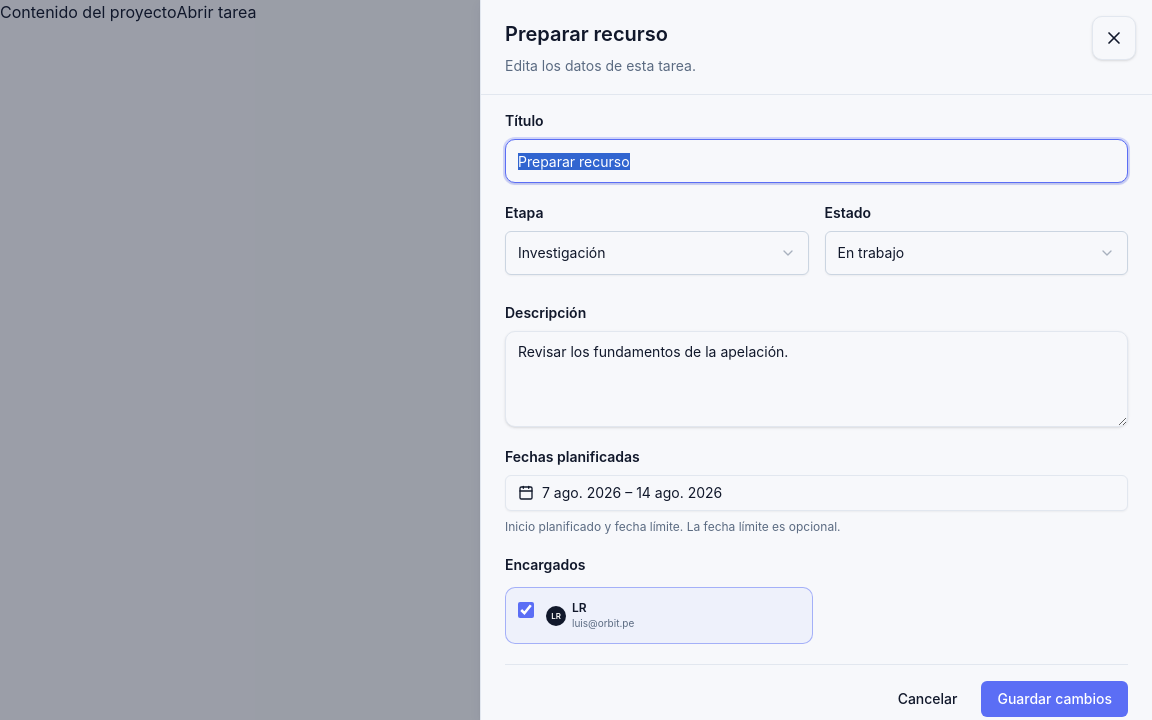
Test: ProjectTaskSheet › keeps the PATCH result and reports a partial save when responsibles fail
Replace the text in the field labelled "Título" with "Preparar recurso corregido": (816,161) [505, 139, 1128, 183]
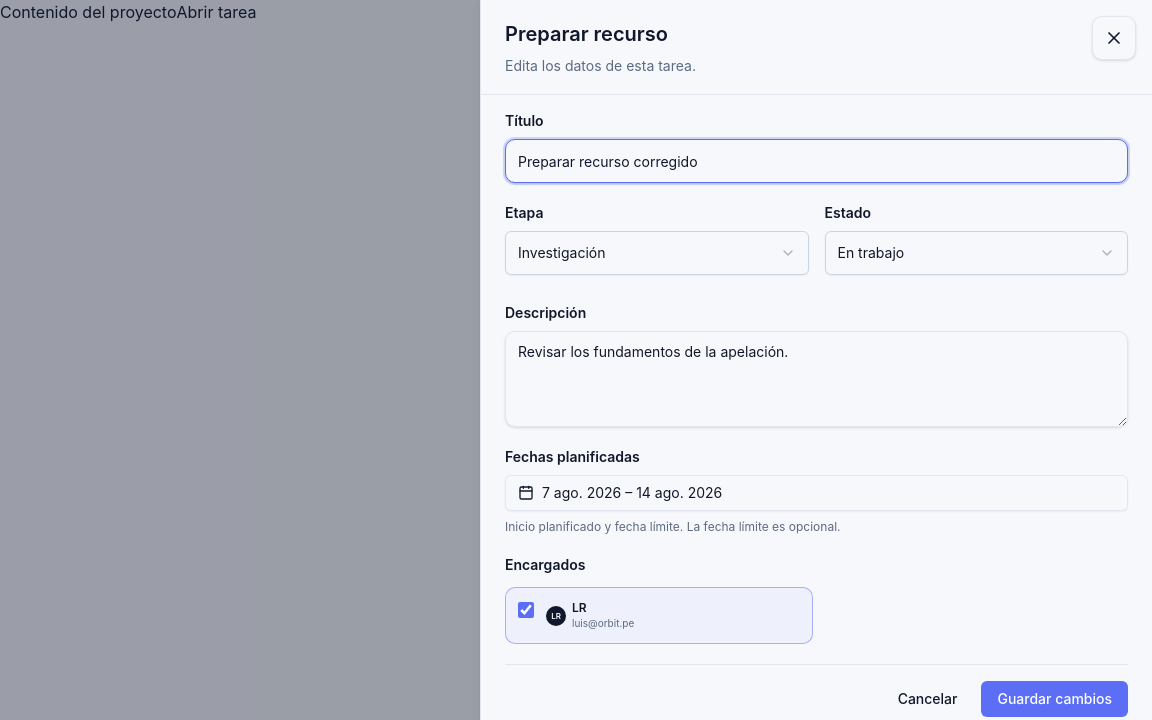
Click the checkbox named "Luis Ramos": (526,610) [518, 602, 534, 618]
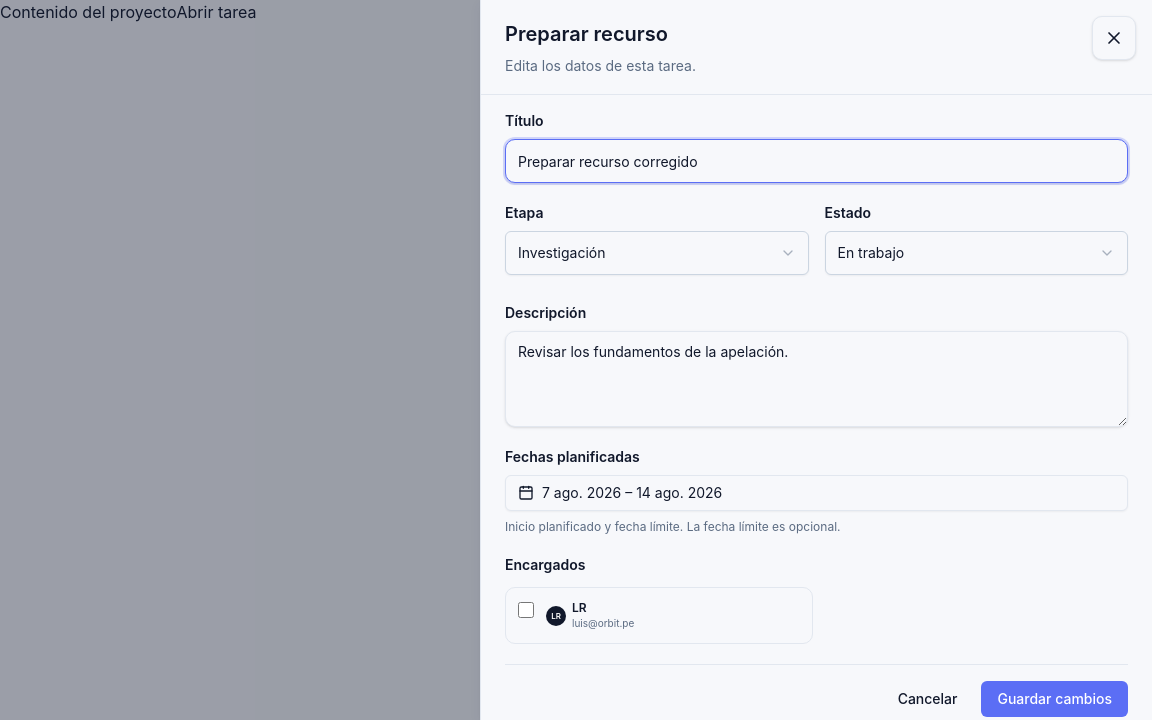
Click the button "Guardar cambios": (1055,699) [982, 681, 1128, 717]
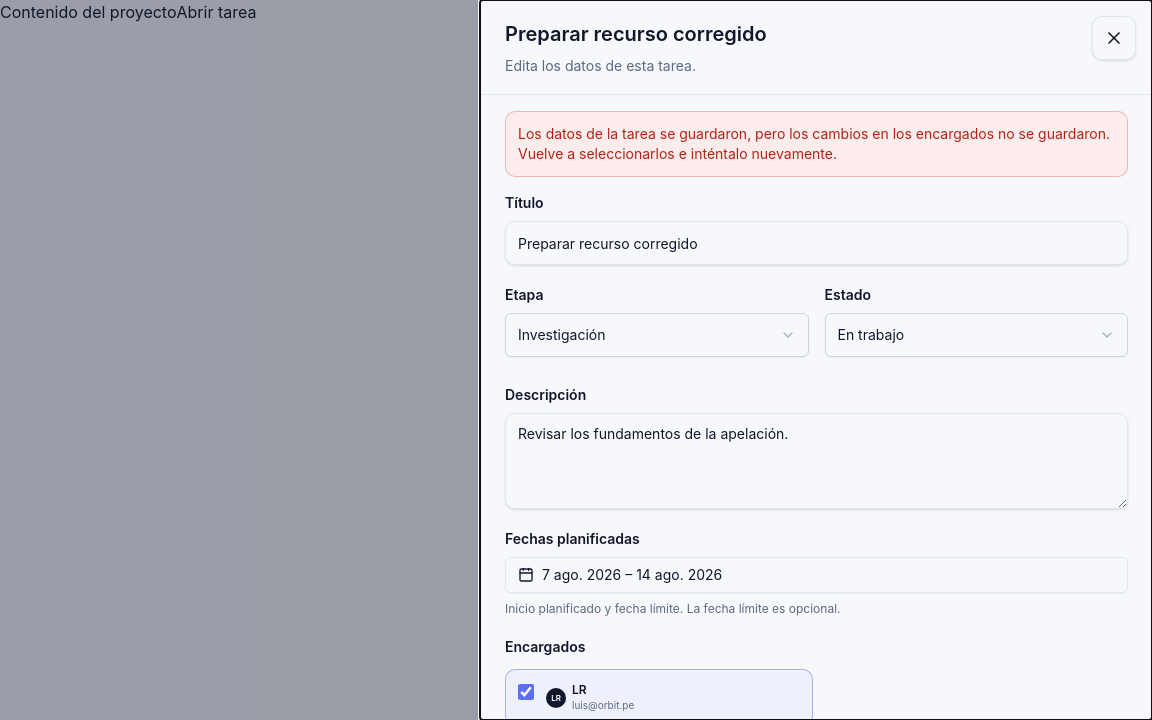
Expected: the message shows "Los datos de la tarea se guardaron, pero los cambios en los encargados no se guardaron. Vuelve a seleccionarlos e inténtalo nuevamente.", [518, 125, 1110, 162]
Expected: the field labelled "Título" holds "Preparar recurso corregido", [505, 221, 1128, 265]
